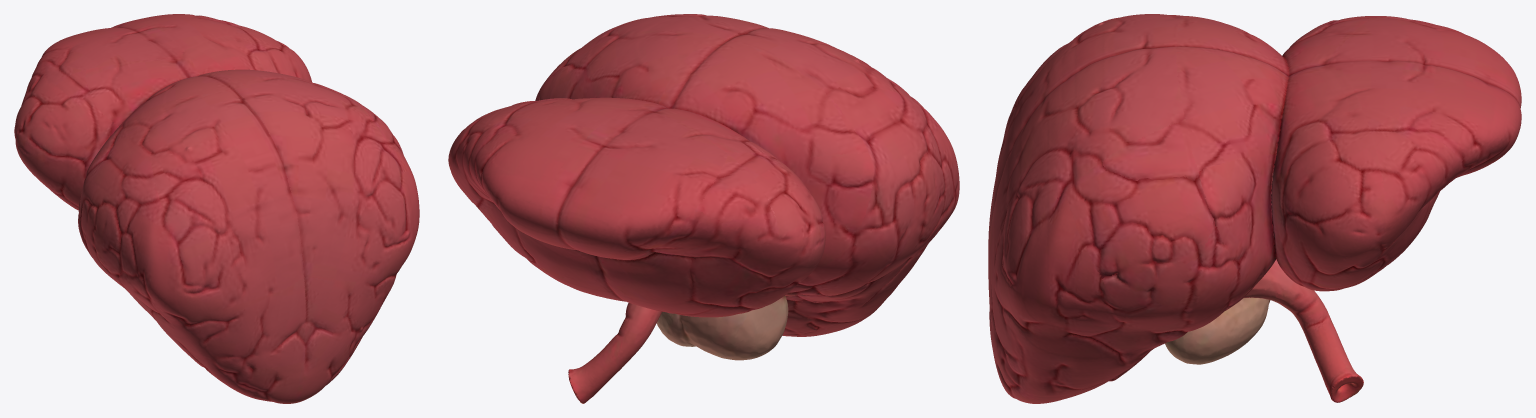
File: liverHepatitis.glb
The picture shows the model from 3 angles, left to right: view 1: azimuth 30°, elevation 25°; view 2: azimuth 150°, elevation 25°; view 3: azimuth 270°, elevation 25°; orthographic projection. The views are drawn at different scales.
Visible parts, largest first — view 1: liverHepatitis; view 2: liverHepatitis; view 3: liverHepatitis.
Part boxes in pixels (bbox=[...]): liverHepatitis: bbox=[14, 14, 419, 403]; liverHepatitis: bbox=[448, 14, 959, 403]; liverHepatitis: bbox=[988, 14, 1521, 403].
Size of the model in its own units: 0.8398 by 0.7203 by 1.
1 material, 1 textured.
